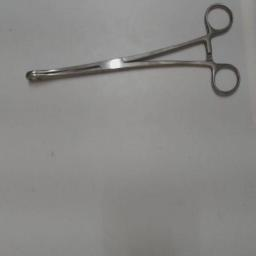Sponge Forceps: (20, 0, 244, 104)
